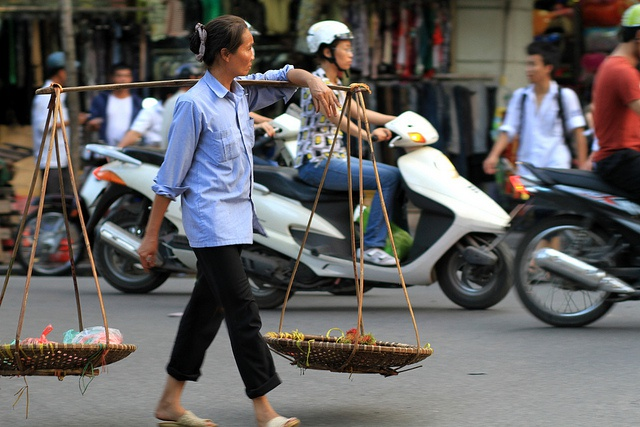non-vehicle: (234, 106, 507, 309), (495, 156, 639, 328), (71, 141, 194, 294), (13, 140, 104, 276)
